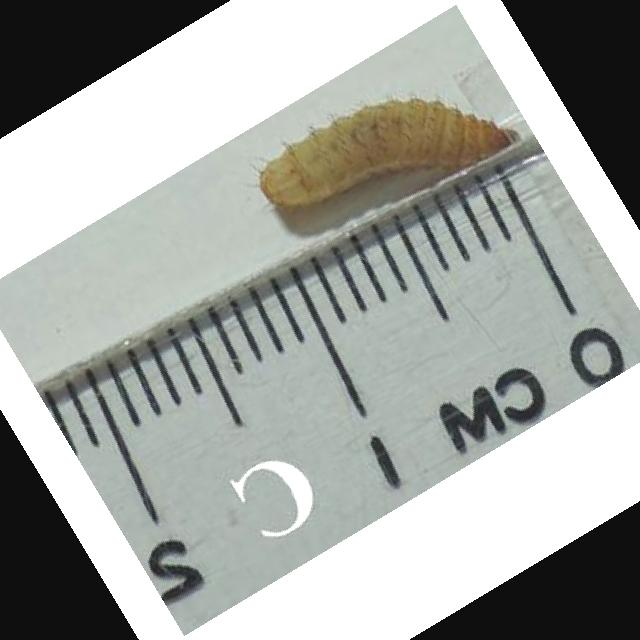Maggot: (253, 89, 520, 213)
